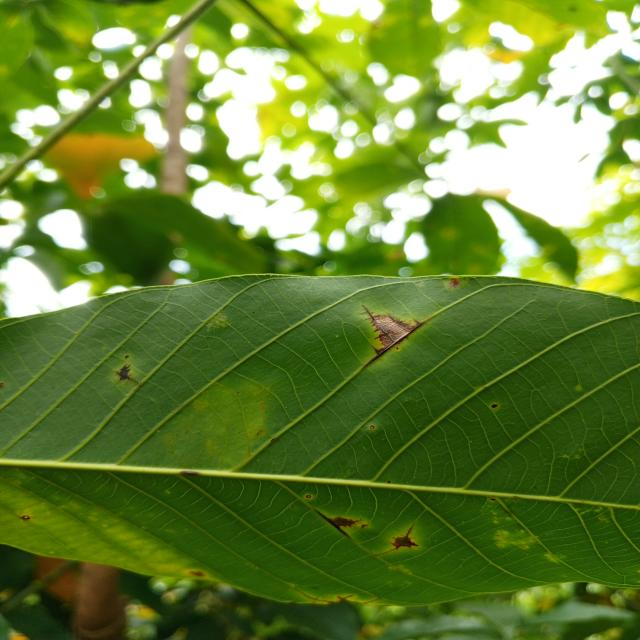Colletotrichum: (491, 404, 498, 408), (23, 516, 30, 520), (305, 495, 312, 498), (370, 425, 375, 429), (490, 498, 495, 501)
Corynespora: (360, 304, 425, 366), (314, 508, 363, 539), (374, 524, 419, 556), (115, 364, 138, 384), (359, 304, 378, 322)
